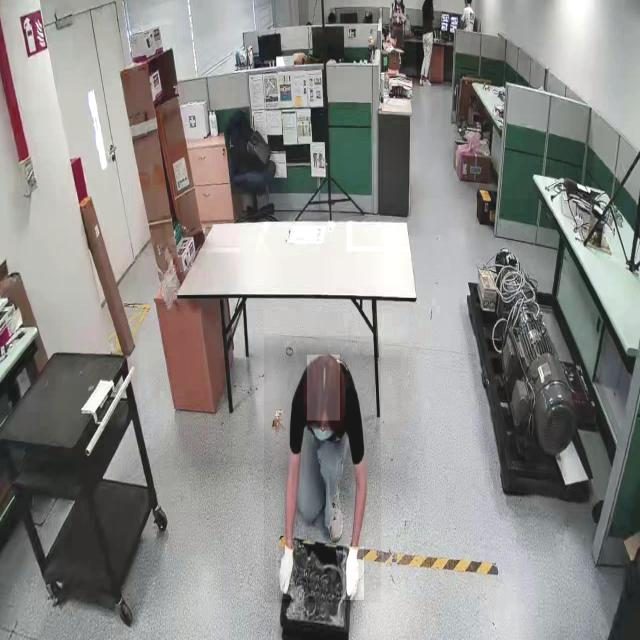hand_glove: (276, 540, 298, 600), (343, 547, 365, 601)
head_nohelmet: (307, 355, 341, 421)
person: (264, 336, 382, 604), (416, 0, 442, 87)
shoes: (323, 478, 346, 542), (419, 69, 433, 90)
